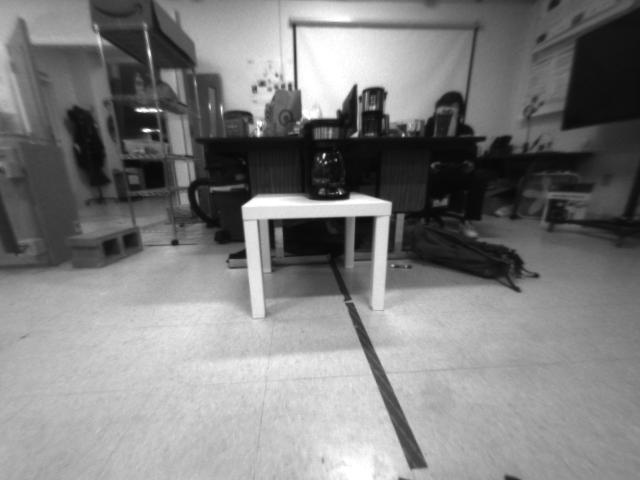coffee_pot: (298, 115, 355, 202)
